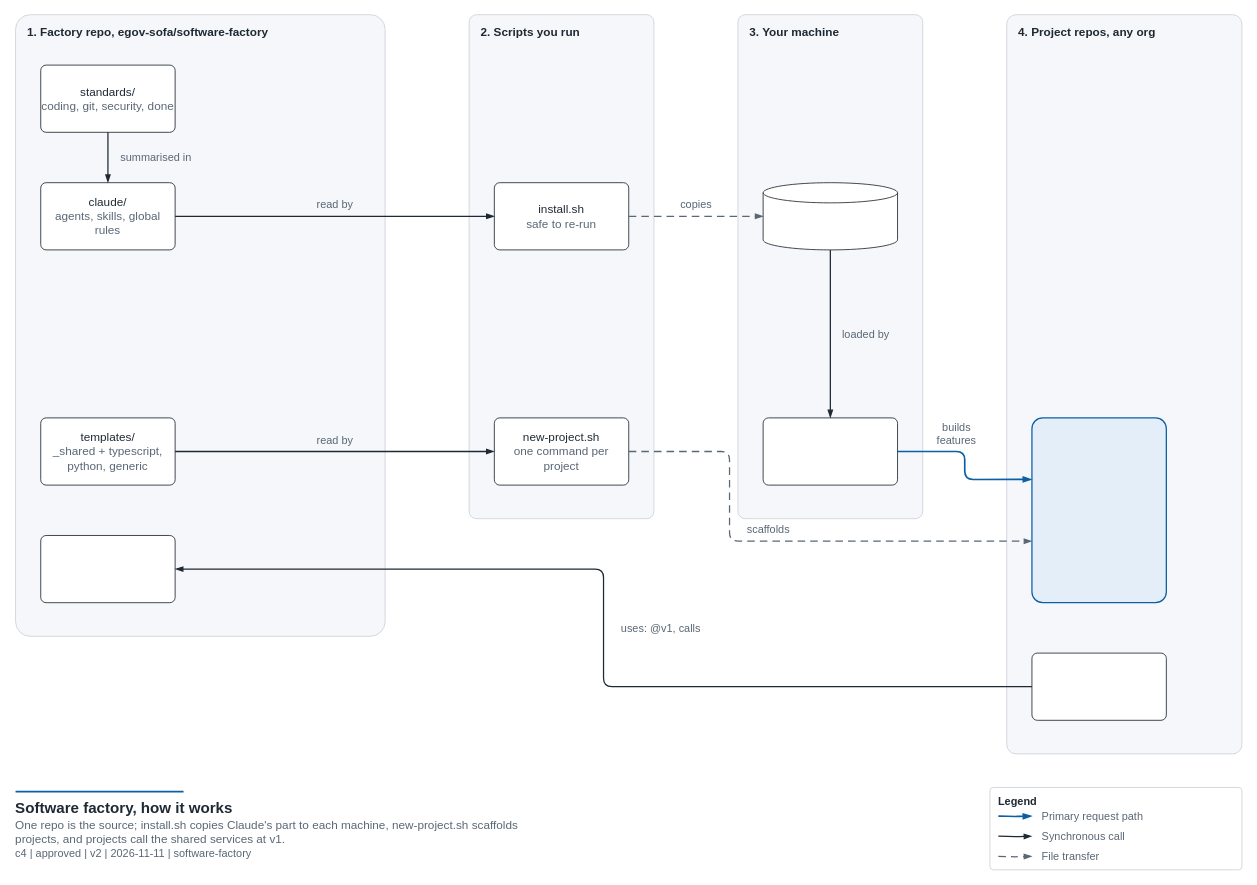
Image size: 1257x885. Some labels were removed from this diagram. Each missing label, with the centre of its shape:
"Caller workflows ci, claude-review, content-guard" goes at pixel 1098 686.
"Claude Code /factory-build and others" goes at pixel 830 451.
"my-app egov-rdc/<org>/my-app" goes at pixel 1099 510.
"Shared services reusable workflows, content guard" goes at pixel 107 569.
"~/.claude agents, skills, rules" goes at pixel 830 216.
